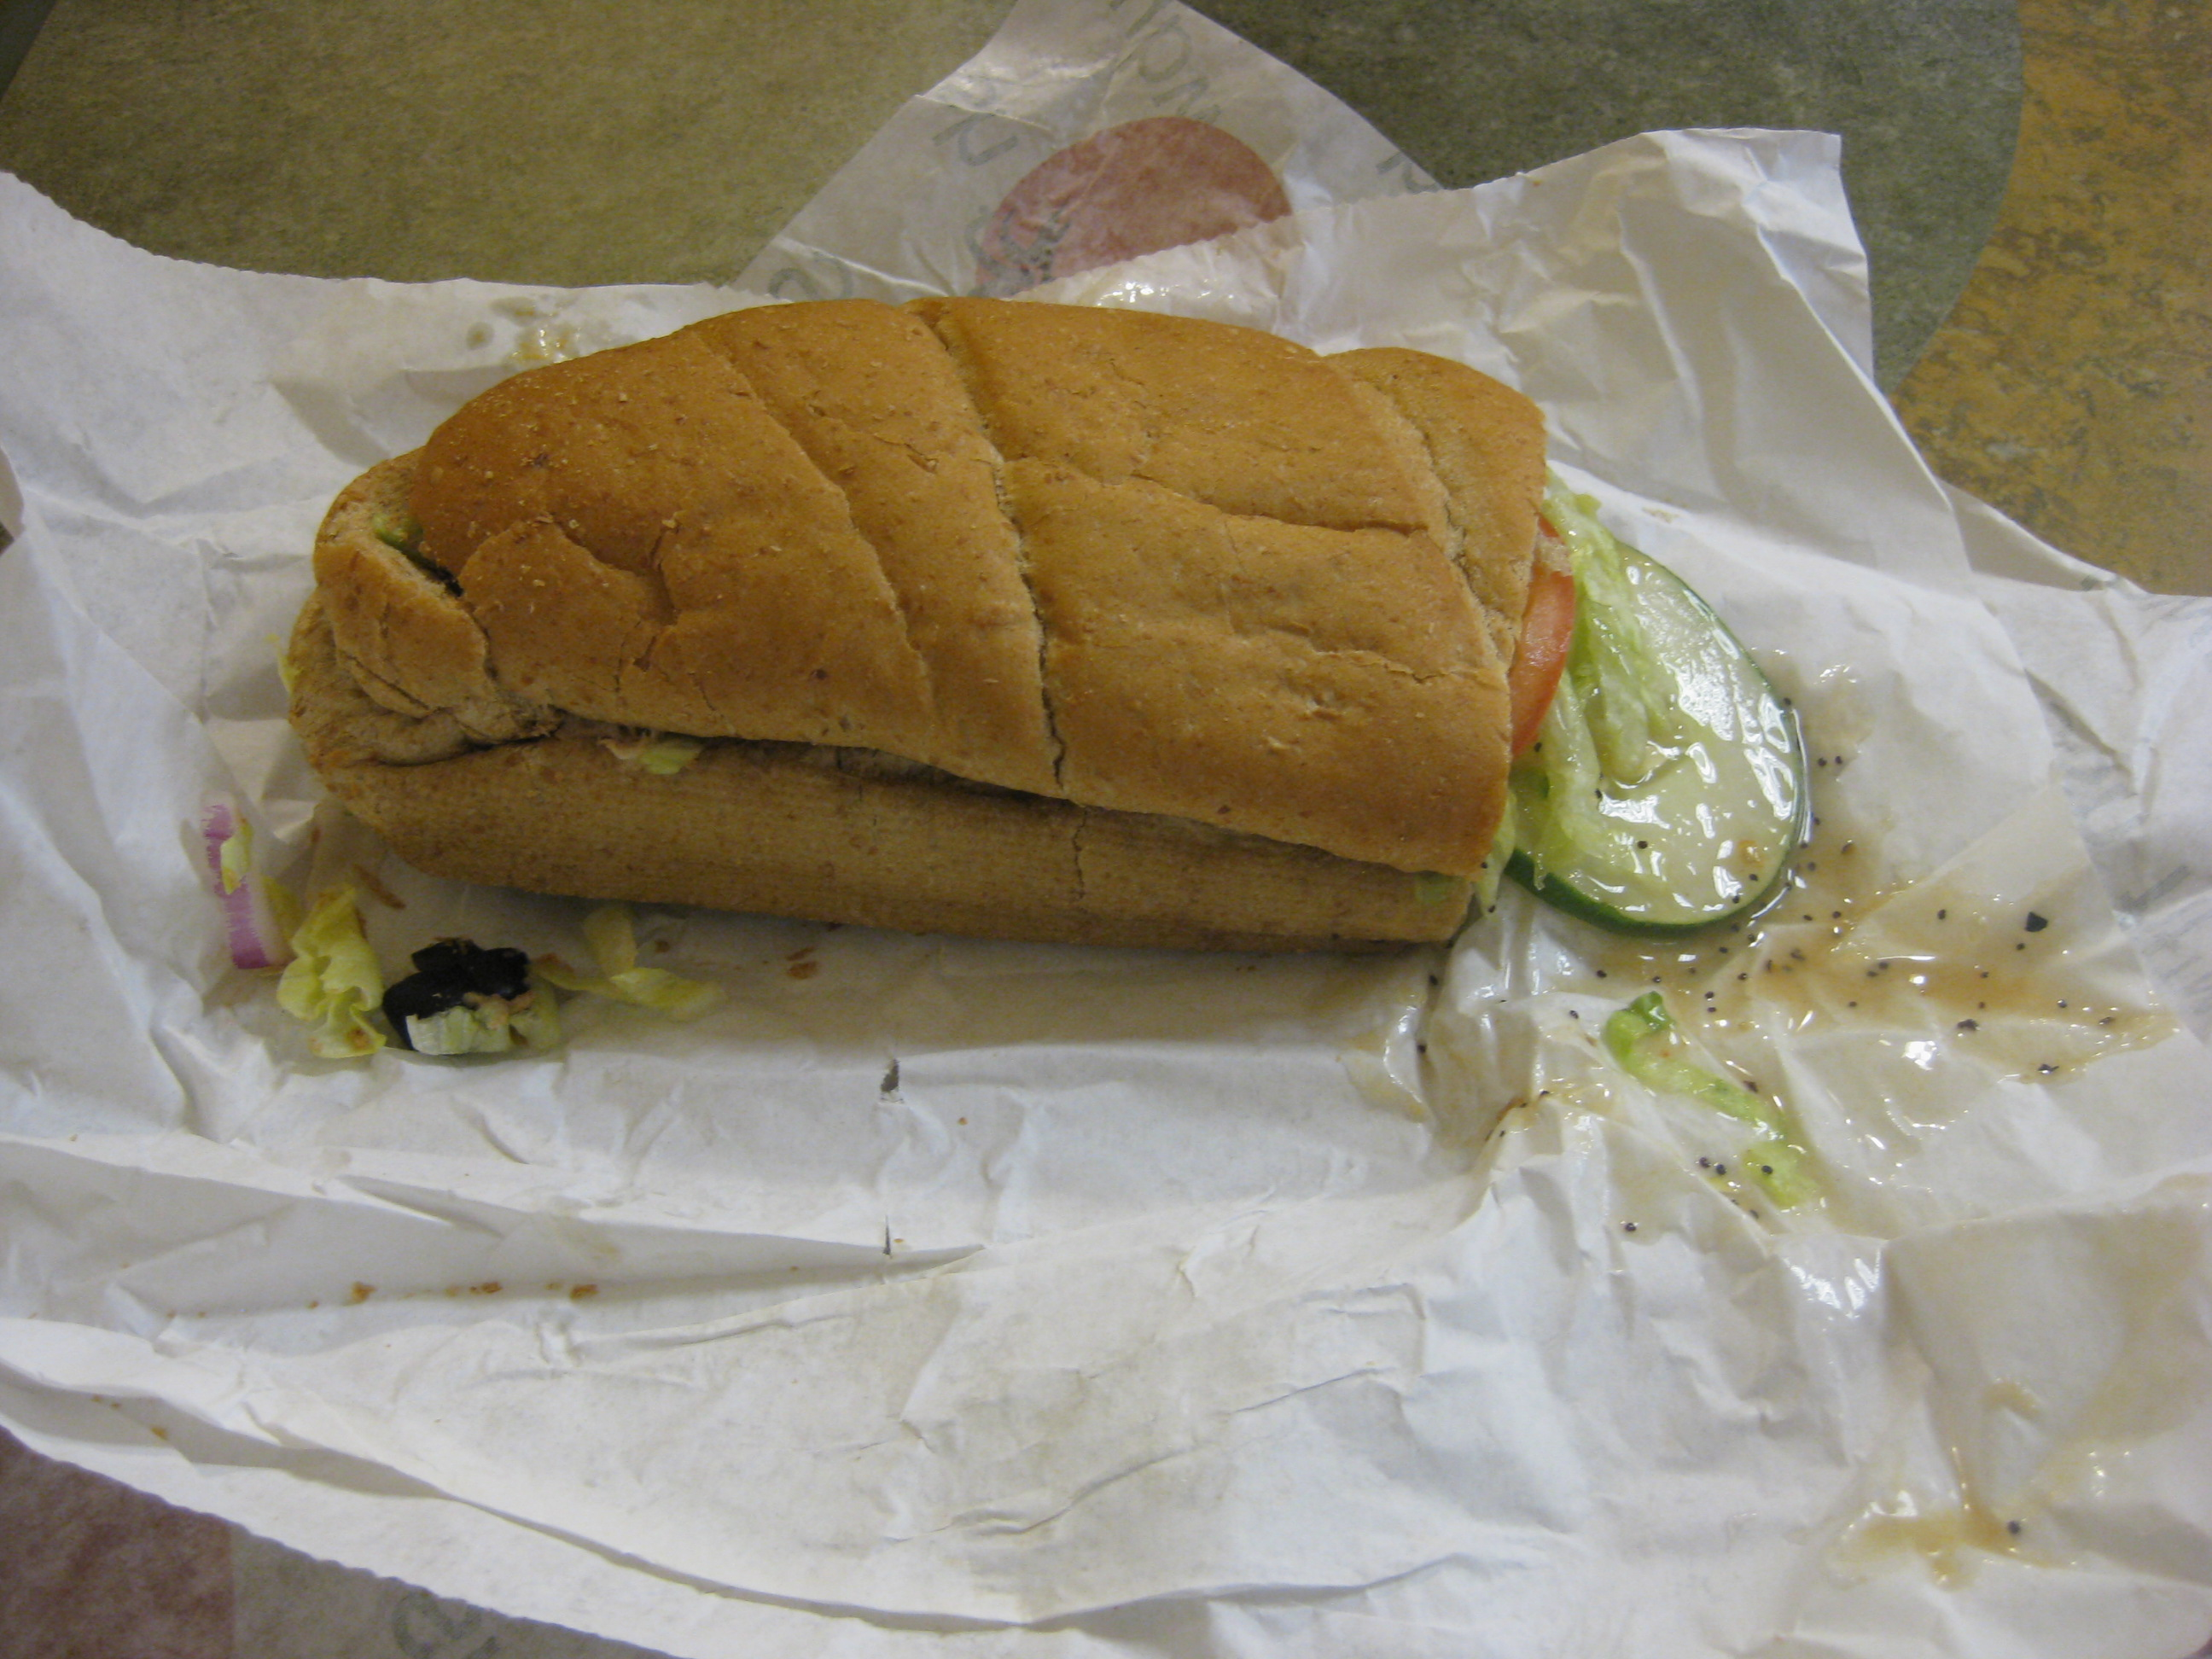sub: (282, 265, 1761, 1058)
